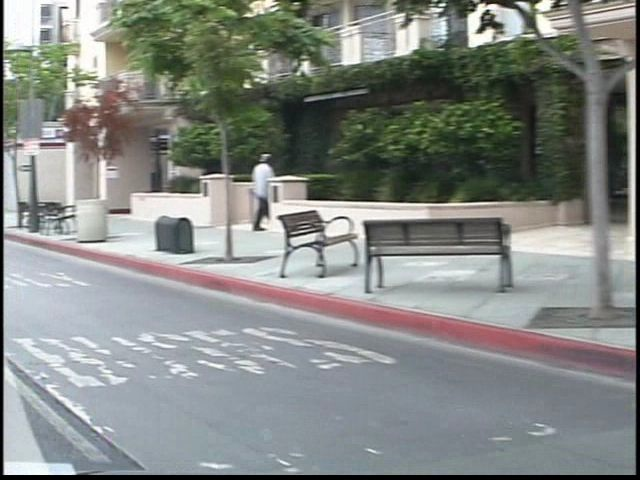person: (229, 146, 260, 236)
